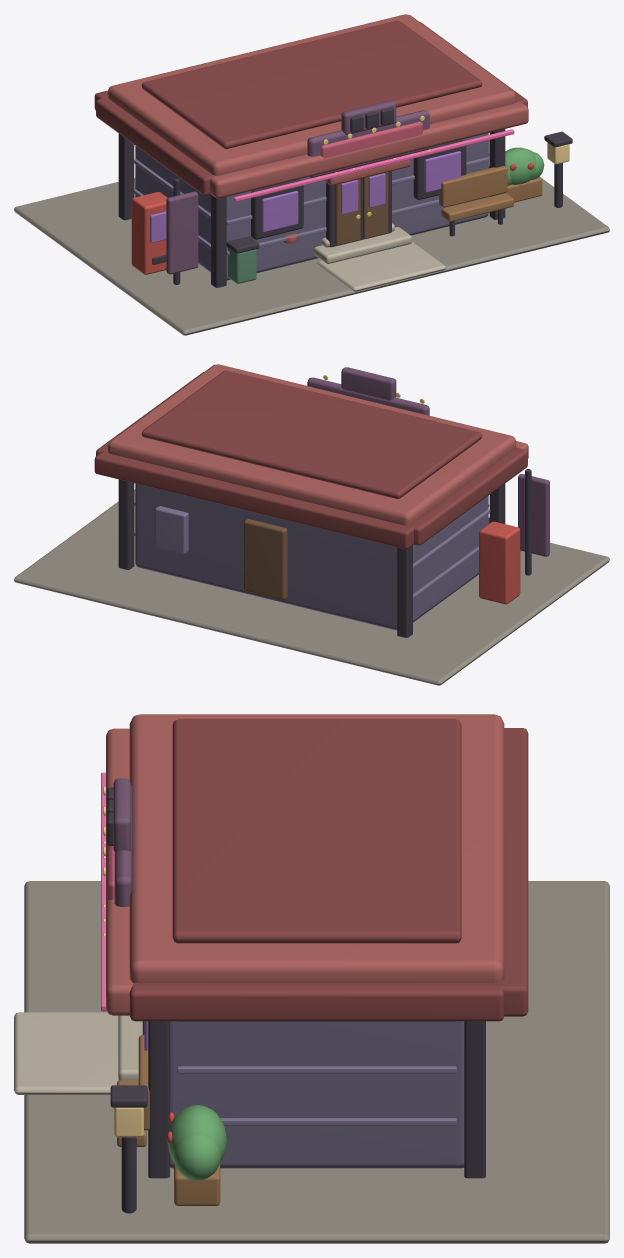
Rendered from casino.fbx.
The picture shows the model from 3 angles, top to bottom: view 1: azimuth 30°, elevation 25°; view 2: azimuth 150°, elevation 25°; view 3: azimuth 270°, elevation 25°; orthographic projection. The views are drawn at different scales.
Parts seen in each view (by area): view 1: Base_Sidewalk_Tile, Roof_Top_Inset_Dark, Roof_Main_Red_Slab, Building_Main_Body, Roof_Front_Lip, Entrance_Path, Roof_Left_Lip, VerticalSign_Board, VendingMachine_Red_Body, Bench_Back, NeonStrip_Front_Pink_Target, Step_Lower (+23 smaller); view 2: Base_Sidewalk_Tile, Roof_Top_Inset_Dark, Building_Main_Body, Roof_Main_Red_Slab, Roof_Back_Lip, Back_Service_Door, VendingMachine_Red_Body, Roof_Left_Lip, VerticalSign_Board, Corner_BR, Back_Electric_Box, Corner_BL (+5 smaller); view 3: Base_Sidewalk_Tile, Roof_Top_Inset_Dark, Building_Main_Body, Roof_Main_Red_Slab, Roof_Right_Lip, Entrance_Path, Roof_Back_Lip, Roof_Front_Lip, Corner_BR, Corner_FR, Side_Wall_Panel_Line_R_0.9, Side_Wall_Panel_Line_R_0.48 (+10 smaller).
Boxes of the visible parts, <box> form: Base_Sidewalk_Tile: <box>14,140,609,335</box>; Roof_Top_Inset_Dark: <box>141,20,482,148</box>; Roof_Main_Red_Slab: <box>108,14,515,175</box>; Building_Main_Body: <box>135,133,488,280</box>; Roof_Front_Lip: <box>210,102,528,198</box>; Entrance_Path: <box>317,241,445,291</box>; Roof_Left_Lip: <box>96,97,214,195</box>; VerticalSign_Board: <box>166,191,198,274</box>; VendingMachine_Red_Body: <box>131,192,167,274</box>; Bench_Back: <box>439,166,507,207</box>; NeonStrip_Front_Pink_Target: <box>233,129,514,201</box>; Step_Lower: <box>314,227,411,263</box>; Base_Sidewalk_Tile: <box>14,489,609,685</box>; Roof_Top_Inset_Dark: <box>141,370,482,498</box>; Building_Main_Body: <box>135,483,488,630</box>; Roof_Main_Red_Slab: <box>108,364,515,525</box>; Roof_Back_Lip: <box>94,451,413,549</box>; Back_Service_Door: <box>244,519,287,599</box>; VendingMachine_Red_Body: <box>479,521,520,604</box>; Roof_Left_Lip: <box>409,447,527,545</box>; VerticalSign_Board: <box>518,474,549,556</box>; Corner_BR: <box>118,479,134,569</box>; Back_Electric_Box: <box>155,506,188,554</box>; Corner_BL: <box>397,545,412,637</box>; Base_Sidewalk_Tile: <box>24,881,609,1243</box>; Roof_Top_Inset_Dark: <box>172,719,461,943</box>; Building_Main_Body: <box>170,1021,464,1168</box>; Roof_Main_Red_Slab: <box>129,714,504,983</box>; Roof_Right_Lip: <box>129,982,504,1021</box>; Entrance_Path: <box>14,1012,118,1094</box>; Roof_Back_Lip: <box>500,728,528,1016</box>; Roof_Front_Lip: <box>106,728,133,1015</box>; Corner_BR: <box>464,1021,485,1178</box>; Corner_FR: <box>148,1021,169,1178</box>; Side_Wall_Panel_Line_R_0.9: <box>177,1066,456,1073</box>; Side_Wall_Panel_Line_R_0.48: <box>220,1118,456,1125</box>.
Size of the model in its own units: 620 by 218 by 438.
